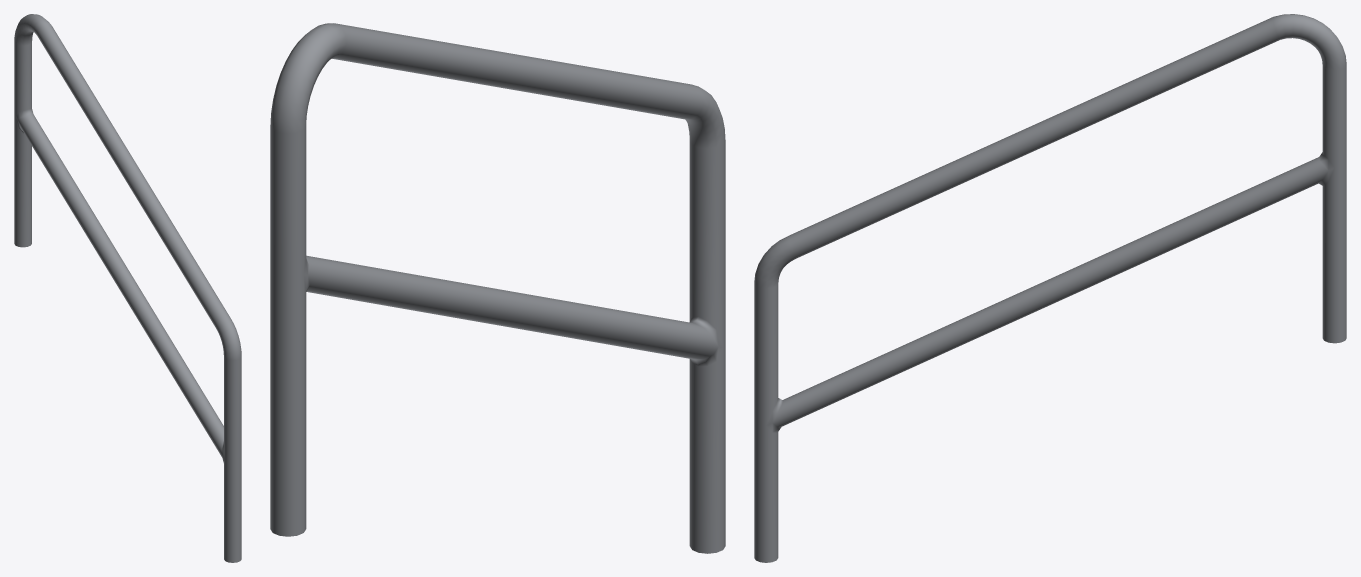
The model's file is sm_Railing_B_04.fbx.
3 renders of one model, left to right at view 1: azimuth 30°, elevation 25°; view 2: azimuth 150°, elevation 25°; view 3: azimuth 270°, elevation 25°, orthographic. The views are drawn at different scales.
Parts seen in each view (by area): view 1: Railing_B_04; view 2: Railing_B_04; view 3: Railing_B_04.
Boxes of the visible parts, x1,y1,x2,y2 form: Railing_B_04: (14, 14, 241, 562); Railing_B_04: (270, 23, 725, 553); Railing_B_04: (754, 14, 1346, 562).
Size of the model in its own units: 196 by 198 by 8.
